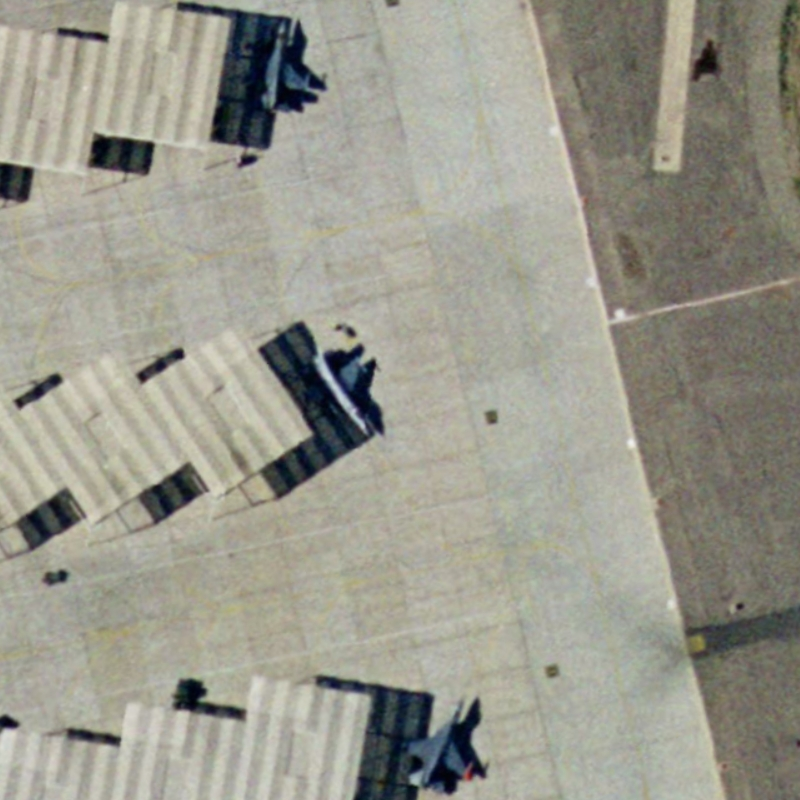A5: (396, 692, 479, 793), (298, 342, 379, 441), (237, 16, 315, 116)
